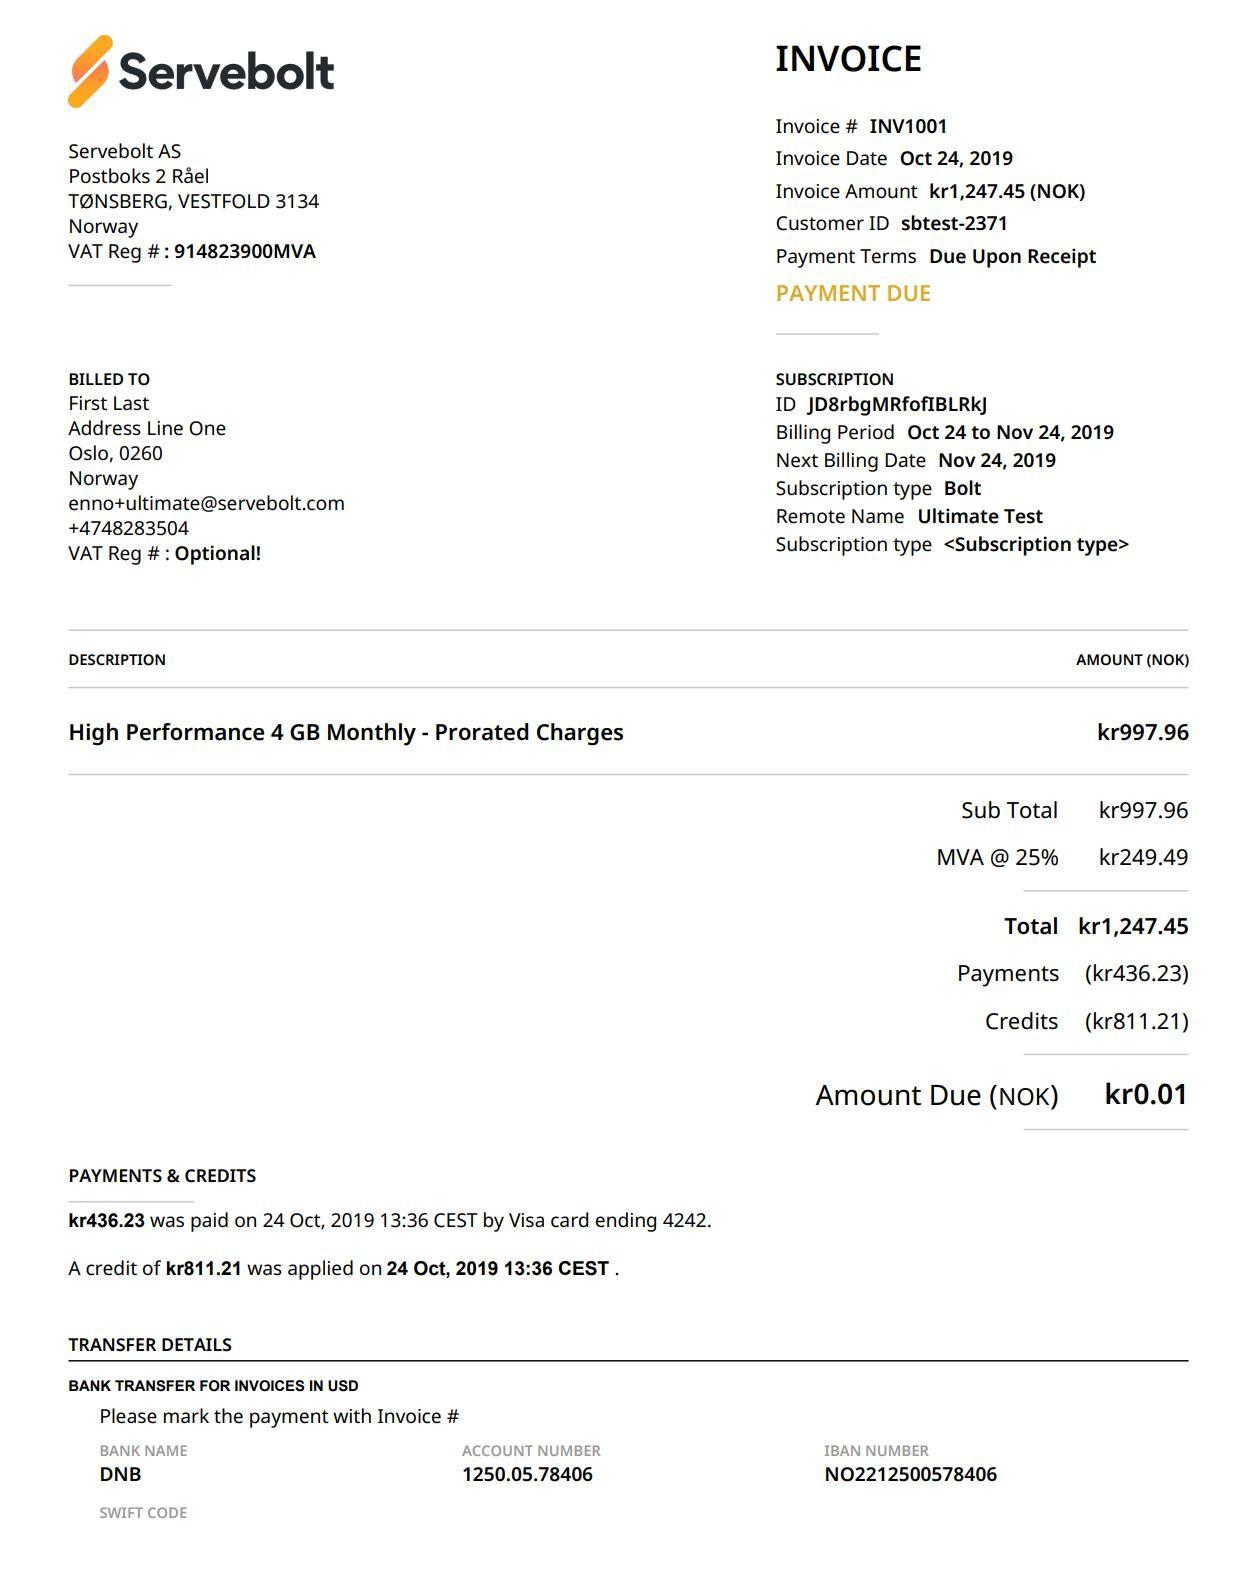ROI: (67, 649, 1196, 1053), (59, 1162, 1201, 1530), (67, 368, 352, 568), (37, 112, 355, 281), (766, 113, 1103, 267), (810, 1068, 1205, 1125)
